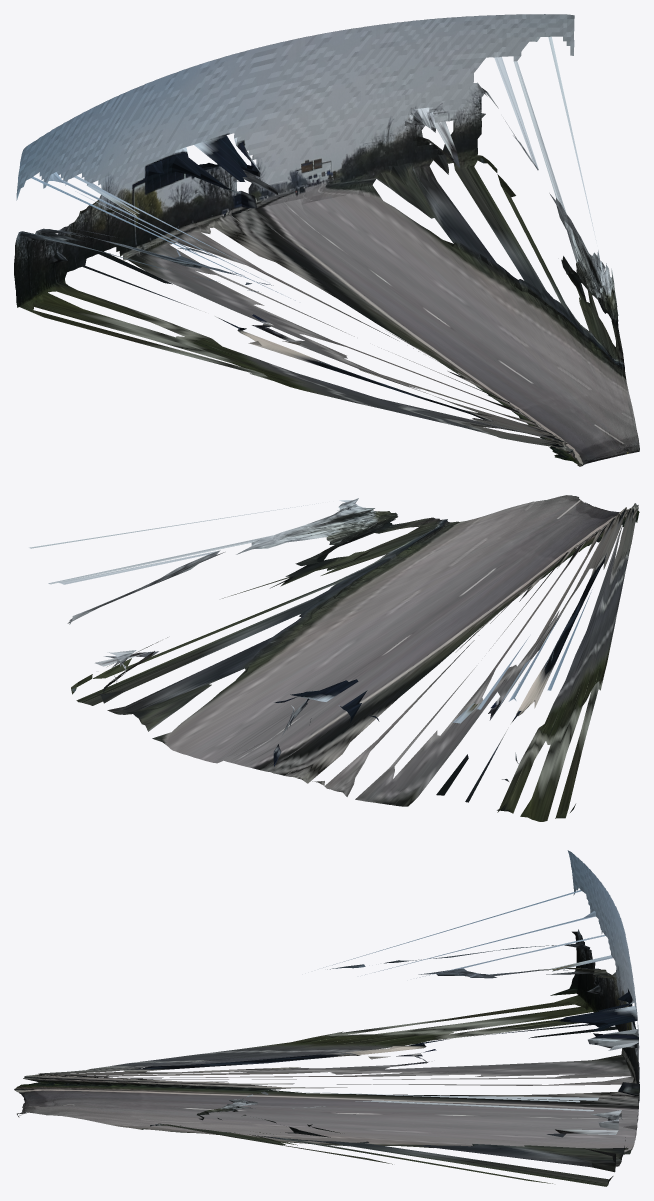
3 renders of one model, top to bottom at view 1: azimuth 30°, elevation 25°; view 2: azimuth 150°, elevation 25°; view 3: azimuth 270°, elevation 25°, orthographic. The views are drawn at different scales.
Visible parts, largest first — view 1: defaultobject; view 2: defaultobject; view 3: defaultobject.
Part boxes in pixels (bbox=[...]): defaultobject: bbox=[14, 14, 639, 466]; defaultobject: bbox=[29, 495, 639, 821]; defaultobject: bbox=[14, 850, 639, 1186].
Size of the model in its own units: 40.97 by 12.62 by 44.82.
Materials: 1 (1 with a texture image).
